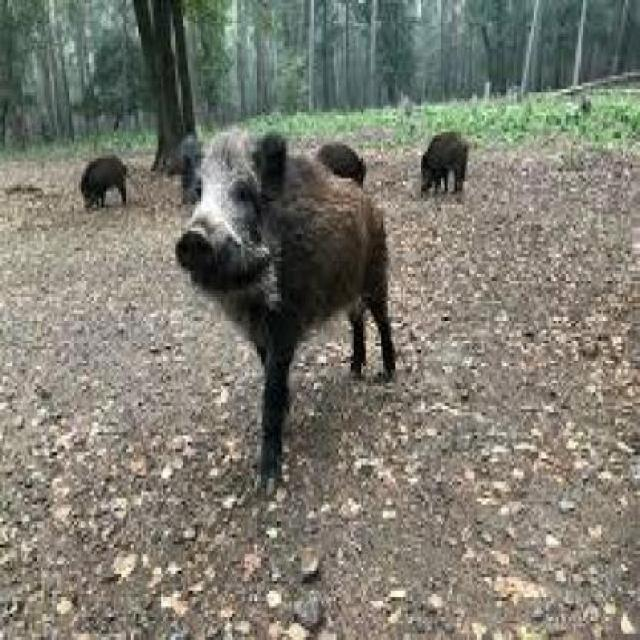wildboar: (173, 124, 401, 504), (414, 130, 474, 198), (313, 132, 376, 194), (77, 152, 134, 220)
